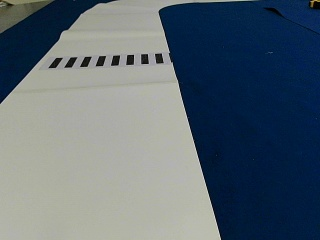crosswalk: (48, 53, 163, 68)
